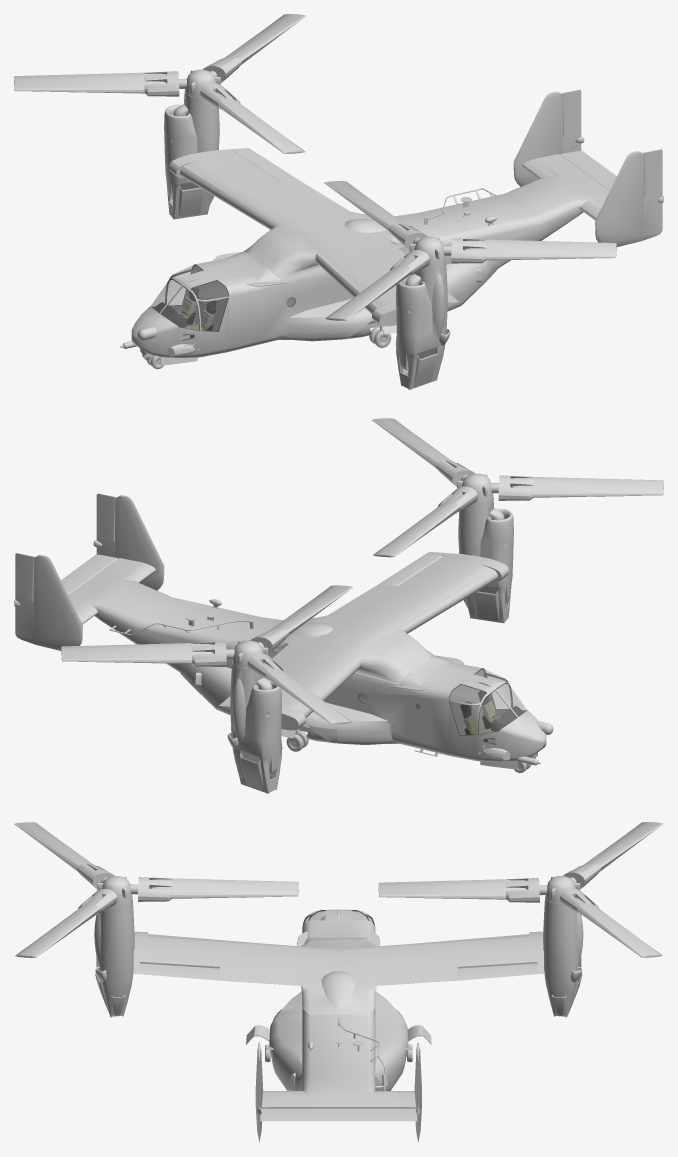
The model's file is bell_boeing_v22_osprey.glb.
3 views of the same model, one above another, from view 1: azimuth 30°, elevation 25°; view 2: azimuth 150°, elevation 25°; view 3: azimuth 270°, elevation 25° (orthographic). The views are drawn at different scales.
Parts seen in each view (by area): view 1: Object_8, Object_7, Object_5, Object_26, Object_15, Object_6, Object_9, Object_24; view 2: Object_8, Object_7, Object_5, Object_26, Object_9, Object_15, Object_6, Object_24; view 3: Object_7, Object_8, Object_5, Object_9, Object_6.
Boxes of the visible parts, left/top/right/bottom form: Object_8: left=131, top=90, right=609, bottom=389; Object_7: left=14, top=14, right=663, bottom=359; Object_5: left=120, top=56, right=616, bottom=369; Object_26: left=142, top=138, right=411, bottom=359; Object_15: left=151, top=264, right=295, bottom=340; Object_6: left=166, top=104, right=449, bottom=376; Object_9: left=160, top=188, right=645, bottom=365; Object_24: left=178, top=287, right=217, bottom=337; Object_8: left=68, top=494, right=546, bottom=793; Object_7: left=14, top=473, right=553, bottom=760; Object_5: left=61, top=418, right=663, bottom=772; Object_26: left=266, top=542, right=526, bottom=760; Object_9: left=109, top=614, right=517, bottom=769; Object_15: left=358, top=668, right=526, bottom=744; Object_6: left=228, top=508, right=511, bottom=780; Object_24: left=460, top=691, right=499, bottom=741; Object_7: left=97, top=822, right=663, bottom=1142; Object_8: left=94, top=895, right=583, bottom=1107; Object_5: left=14, top=822, right=600, bottom=1121; Object_9: left=246, top=931, right=431, bottom=1108; Object_6: left=95, top=962, right=581, bottom=1062.
Bounding box in the file's own units: 17.66 × 5.9 × 20.58.
Materials: 22 (18 with a texture image).
